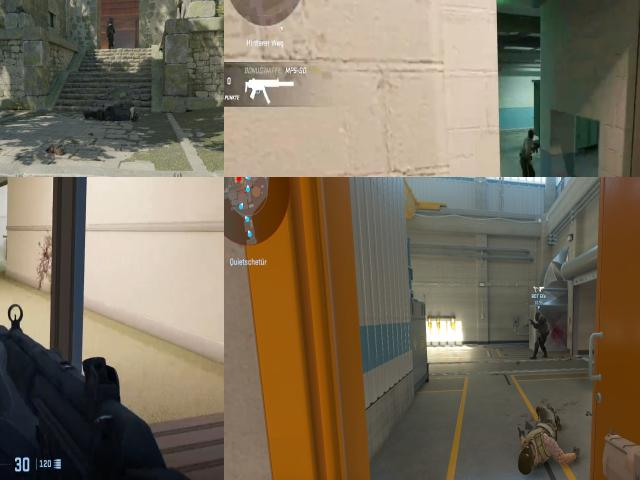CT: (532, 310, 548, 361), (104, 18, 116, 57)
CT-Head: (535, 311, 542, 322), (108, 20, 113, 28)
Dead: (523, 398, 575, 474), (81, 97, 144, 122)
T: (520, 119, 536, 176)
T-Head: (526, 127, 536, 142)
